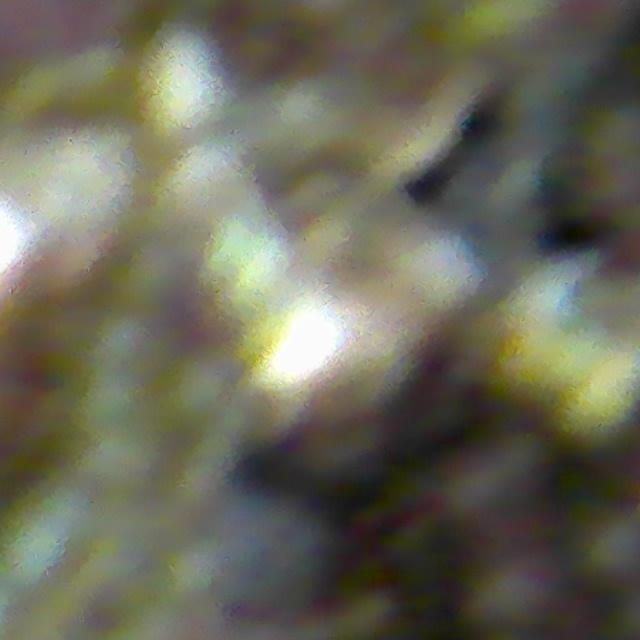SeaGrape: (472, 553, 560, 632), (583, 512, 640, 584)
